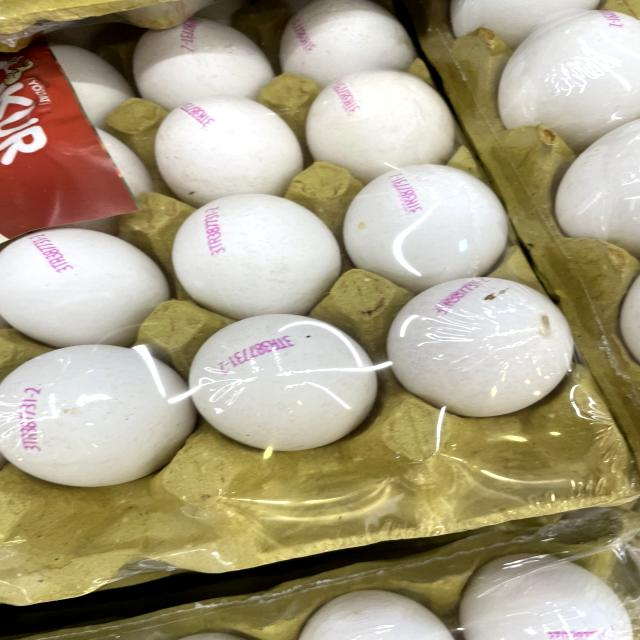egg: (180, 311, 388, 454), (382, 271, 582, 417), (0, 341, 192, 488), (160, 190, 356, 317), (0, 221, 179, 345), (334, 168, 514, 281), (153, 91, 307, 198), (307, 69, 457, 173)
